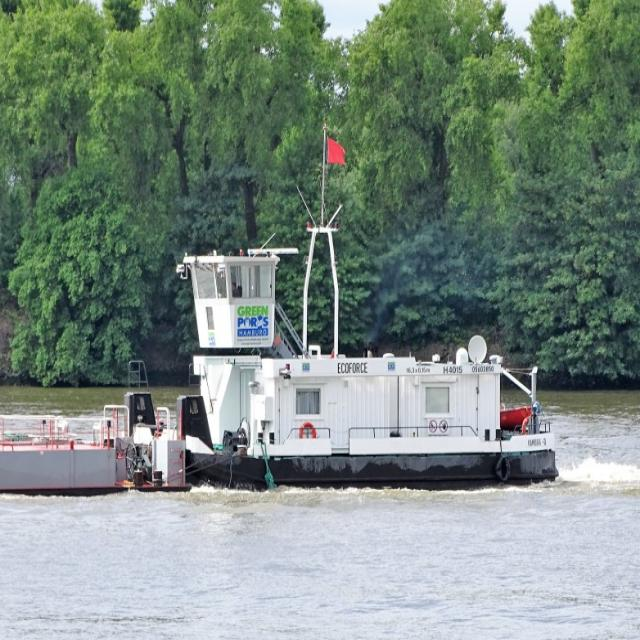tugboat: (109, 223, 571, 501)
